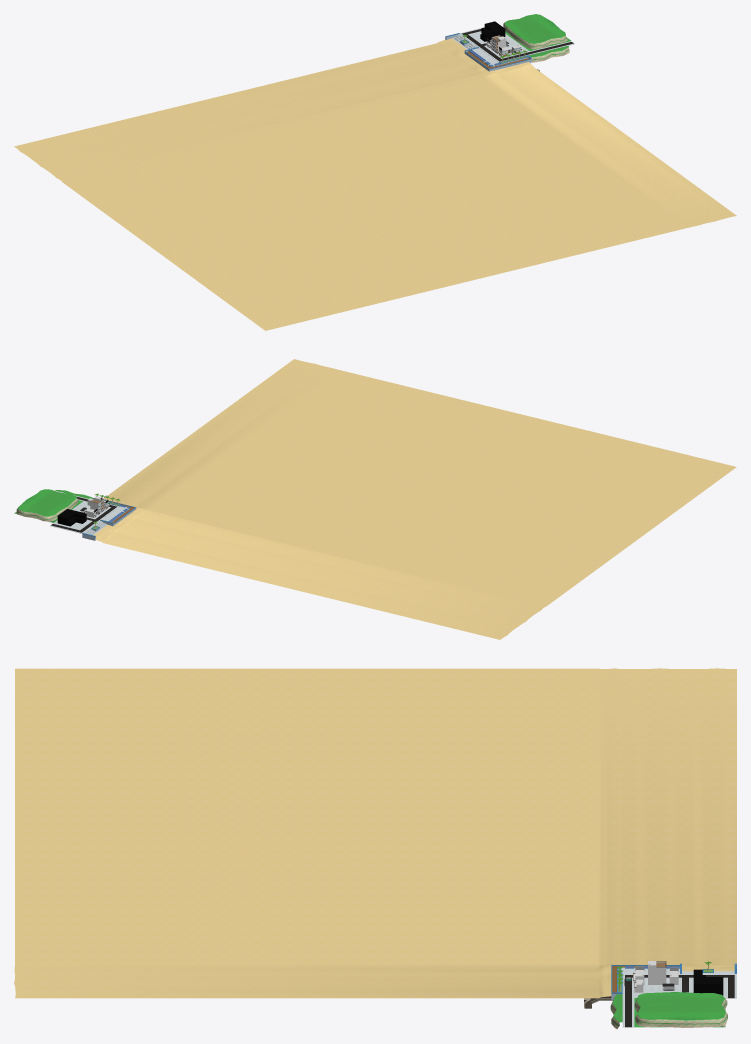
File: docks.dae
3 views of the same model, one above another, from view 1: azimuth 30°, elevation 25°; view 2: azimuth 150°, elevation 25°; view 3: azimuth 270°, elevation 25° (orthographic). The views are drawn at different scales.
Visible parts, largest first — view 1: Plane.061, Plane.012; view 2: Plane.061, Plane.012; view 3: Plane.061, Plane.012, Plane.097, Cube.027.
Boxes of the visible parts, bbox=[...] form: Plane.061: bbox=[14, 38, 736, 330]; Plane.012: bbox=[503, 14, 567, 49]; Plane.061: bbox=[93, 359, 736, 639]; Plane.012: bbox=[16, 489, 78, 521]; Plane.061: bbox=[14, 668, 736, 998]; Plane.012: bbox=[634, 992, 727, 1027]; Plane.097: bbox=[622, 974, 736, 1026]; Cube.027: bbox=[693, 969, 723, 995].
Size of what is drawn, in the model's own units: 758 by 633 by 34.8.
Materials: 48 (44 with a texture image).
